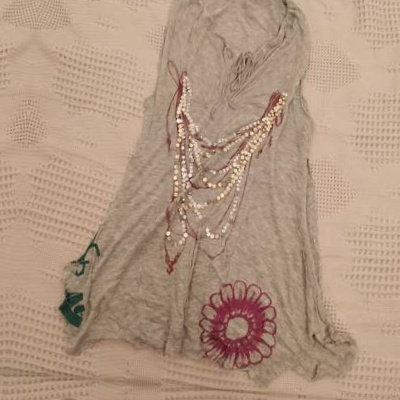Dress: (48, 0, 367, 379), (12, 397, 332, 400), (0, 0, 1, 348)
